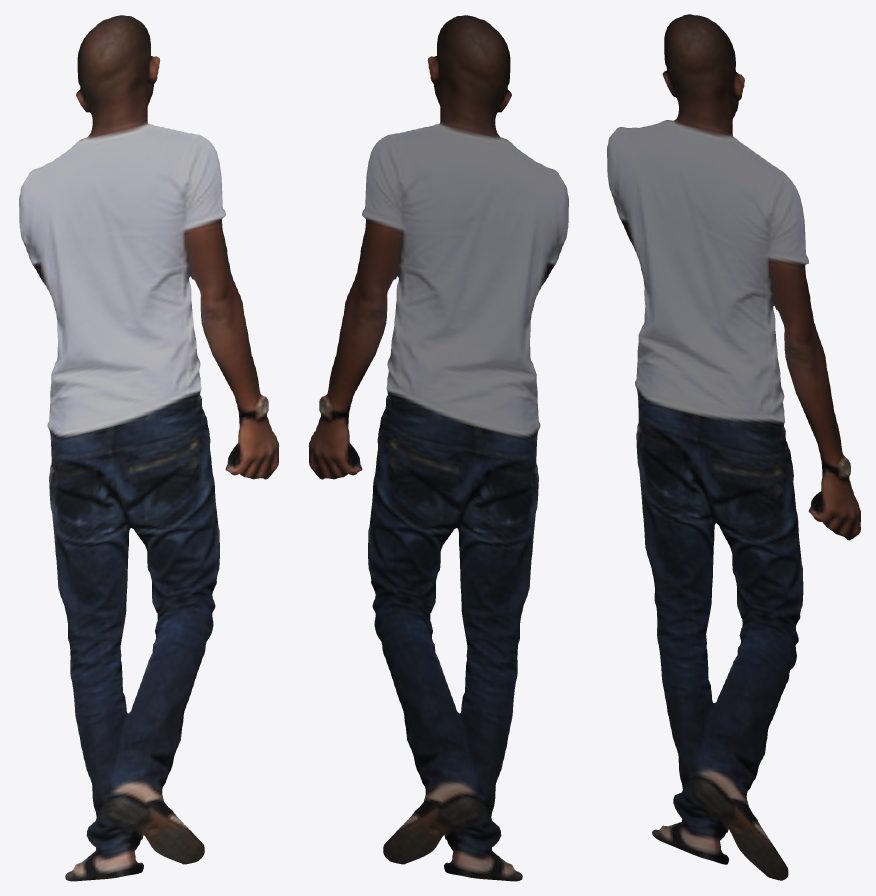
Rendered from people_08.fbx.
The picture shows the model from 3 angles, left to right: view 1: azimuth 30°, elevation 25°; view 2: azimuth 150°, elevation 25°; view 3: azimuth 330°, elevation 25°; orthographic projection. The views are drawn at different scales.
Visible parts, largest first — view 1: Model; view 2: Model; view 3: Model.
Boxes of the visible parts, bbox=[...] form: Model: bbox=[19, 15, 278, 881]; Model: bbox=[309, 15, 568, 881]; Model: bbox=[607, 14, 860, 880].
Bounding box in the file's own units: 0.5665 × 1.77 × 2.75e-13.
